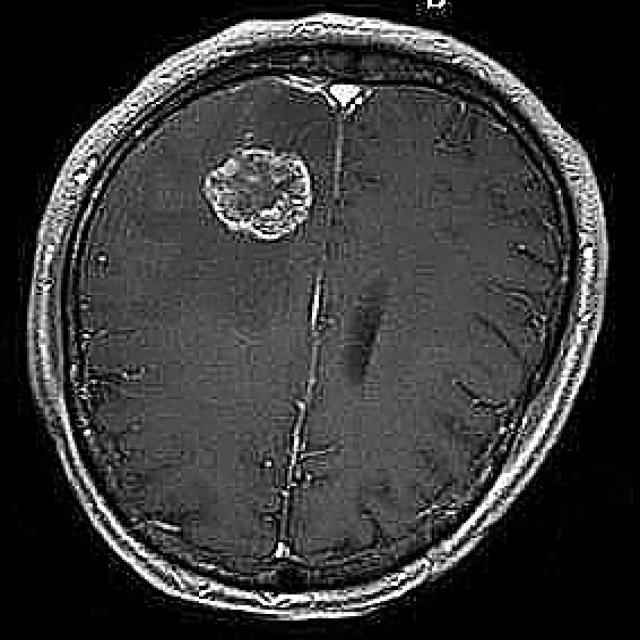Tumor-Cell: (210, 146, 318, 250)
